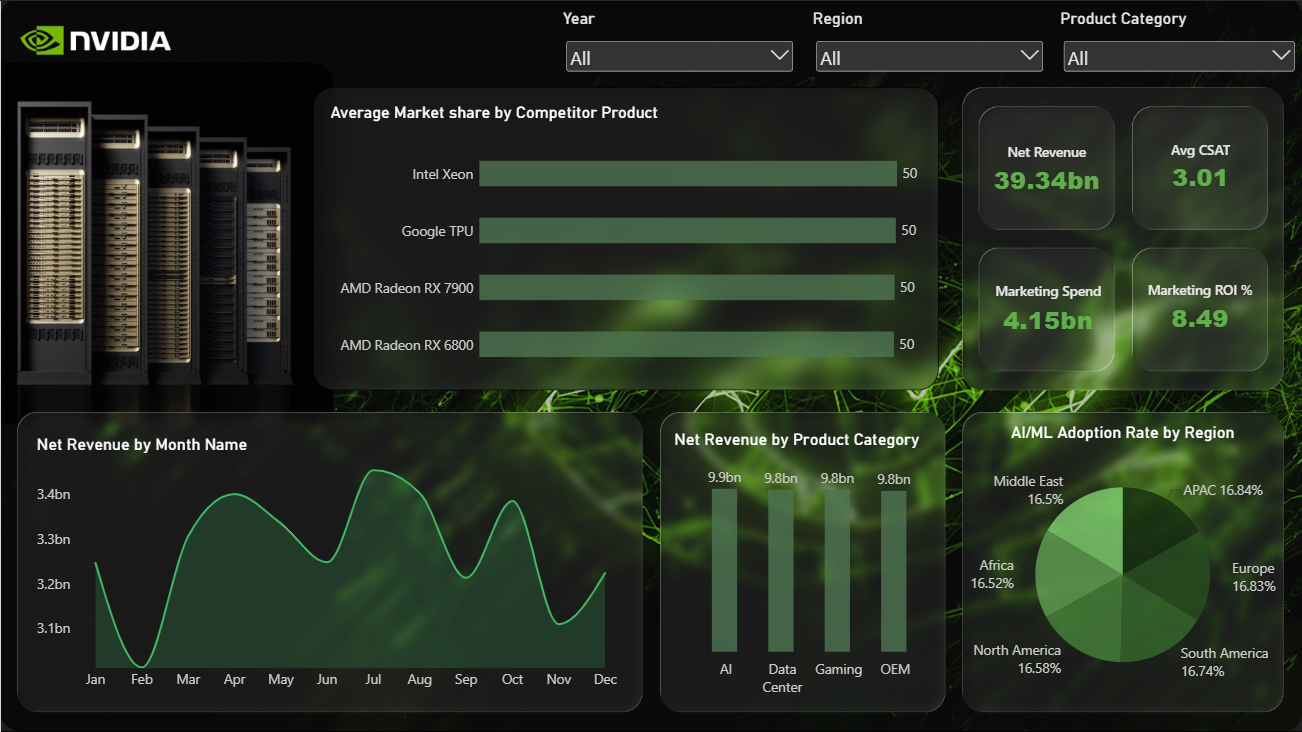

The page's visual inventory and layout, read from the dashboard file:
{"tool":"powerbi","page":{"name":"Page 1","canvas":[1920,1080],"ordinal":0},"visuals":[{"type":"cardVisual","fields":{"Data":["Measures (2).Avg CSAT"]},"box":[1668.6,157,194.8,177.5],"z":0},{"type":"cardVisual","fields":{"Data":["Measures (2).Total Net Revenue"]},"box":[1445,160,190.4,177.5],"z":1000},{"type":"cardVisual","fields":{"Data":["Measures (2).Marketing ROI %"]},"box":[1667,365,196,175.3],"z":2000},{"type":"cardVisual","fields":{"Data":["Measures (2).Total Marketing Spend"]},"box":[1445.6,365.7,194.8,176],"z":3000},{"type":"lineChart","fields":{"Category":["Dim_Calendar.Month Name"],"Y":["Measures (2).Net Revenue"]},"box":[36.8,623.3,896,409],"z":4000},{"type":"slicer","title":"Year","fields":{"Values":["Dim_Calendar.Year"]},"box":[818,10.8,363.6,116.9],"z":5000},{"type":"slicer","title":"Region","fields":{"Values":["nvidia nvidia_sales.region"]},"box":[1185.9,10.8,363.6,116.9],"z":6000},{"type":"slicer","title":"Product Category","fields":{"Values":["nvidia nvidia_sales.product_category"]},"box":[1549.5,10.8,370.1,116.9],"z":7000},{"type":"columnChart","title":"Net Revenue by Product Category","fields":{"Category":["nvidia nvidia_sales.product_category"],"Y":["Measures (2).Net Revenue"]},"box":[976,616.8,411.2,424.2],"z":8000},{"type":"clusteredBarChart","title":"Average Market share by Competitor Product","fields":{"Y":["Avg(nvidia nvidia_sales.market_share)"],"Category":["nvidia nvidia_sales.competitor_product"]},"box":[469.6,136.3,896,441.5],"z":9000},{"type":"pieChart","title":"AI/ML Adoption Rate by Region","fields":{"Y":["Sum(nvidia nvidia_sales.ai_ml_adoption_rate)"],"Category":["nvidia nvidia_sales.region"]},"box":[1400,608.1,502.1,432.8],"z":10000}]}

Visuals, with their boxes in screenshot pixels (x1, y1, x2, y2), scaled from the page's 1920x1080 canvas onto the 1302x732 screenshot:
cardVisual - Measures (2).Avg CSAT: left=1132, top=106, right=1264, bottom=227
cardVisual - Measures (2).Total Net Revenue: left=980, top=108, right=1109, bottom=229
cardVisual - Measures (2).Marketing ROI %: left=1130, top=247, right=1263, bottom=366
cardVisual - Measures (2).Total Marketing Spend: left=980, top=248, right=1112, bottom=367
lineChart - Dim_Calendar.Month Name x Measures (2).Net Revenue: left=25, top=422, right=633, bottom=700
"Year" slicer: left=555, top=7, right=801, bottom=87
"Region" slicer: left=804, top=7, right=1051, bottom=87
"Product Category" slicer: left=1051, top=7, right=1301, bottom=87
"Net Revenue by Product Category" columnChart: left=662, top=418, right=941, bottom=706
"Average Market share by Competitor Product" clusteredBarChart: left=318, top=92, right=926, bottom=392
"AI/ML Adoption Rate by Region" pieChart: left=949, top=412, right=1290, bottom=705
